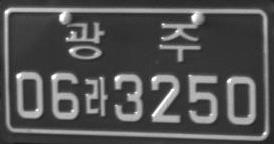0: (225, 74, 258, 126), (13, 70, 45, 119)
2: (150, 73, 182, 124)
3: (113, 72, 145, 122)
5: (186, 72, 219, 125)
6: (49, 72, 81, 120)
광주_D: (64, 20, 202, 63)
라: (83, 75, 108, 117)
